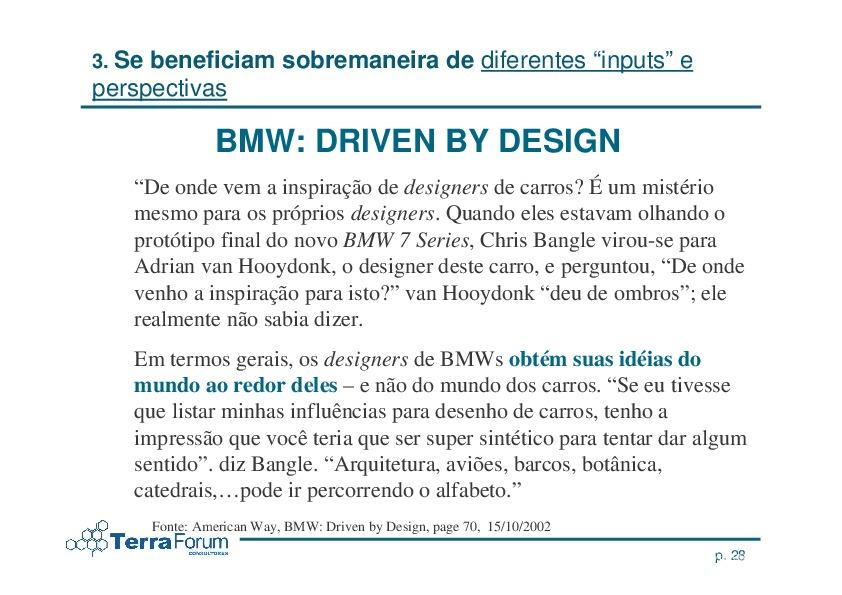paragraph: (115, 167, 778, 515)
subtitle: (208, 115, 630, 169)
title: (83, 43, 710, 103)
